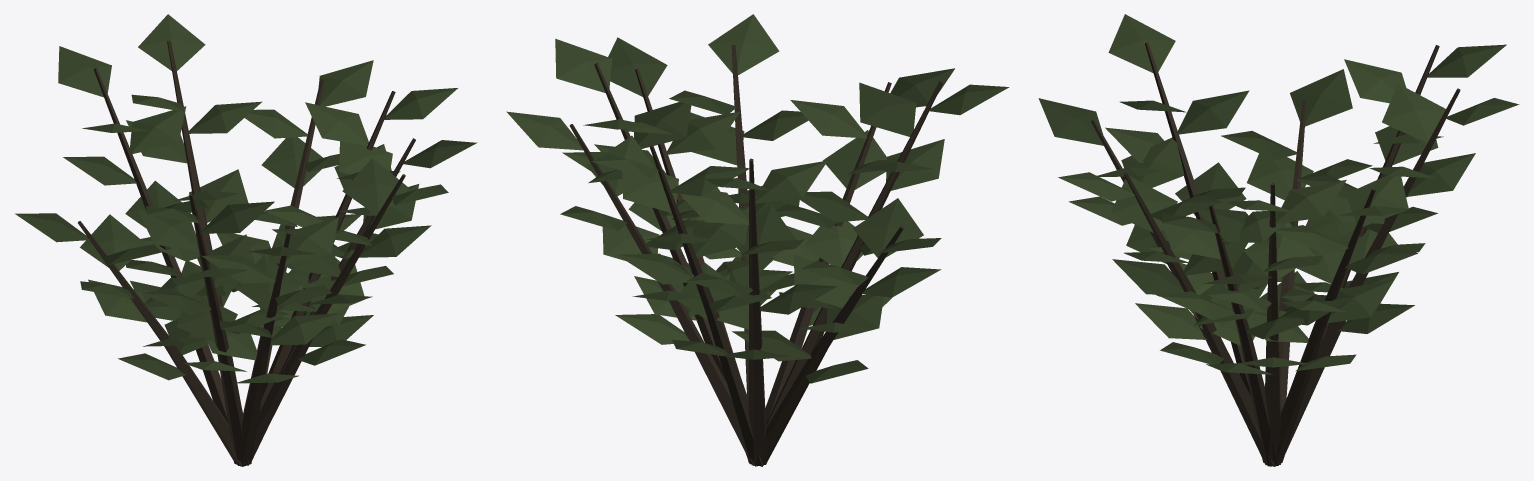
The model's file is shrub.glb.
The picture shows the model from 3 angles, left to right: view 1: azimuth 30°, elevation 25°; view 2: azimuth 150°, elevation 25°; view 3: azimuth 270°, elevation 25°; orthographic projection. The views are drawn at different scales.
Visible parts, largest first — view 1: shrub; view 2: shrub; view 3: shrub.
Boxes of the visible parts, x1,y1,x2,y2 form: shrub: (15,14,477,466); shrub: (506,14,1009,466); shrub: (1038,14,1519,466).
Bounding box in the file's own units: 0.9436 × 0.8096 × 0.9239.
